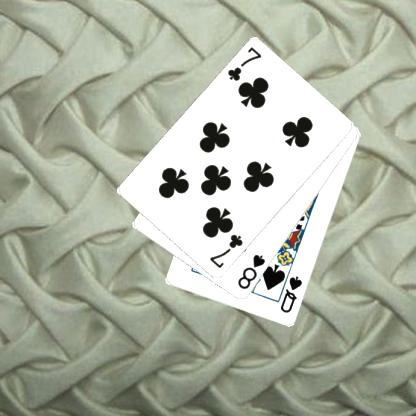7C: (224, 44, 263, 83), (207, 232, 245, 270)
8S: (235, 252, 267, 291)
QS: (277, 274, 304, 314)
